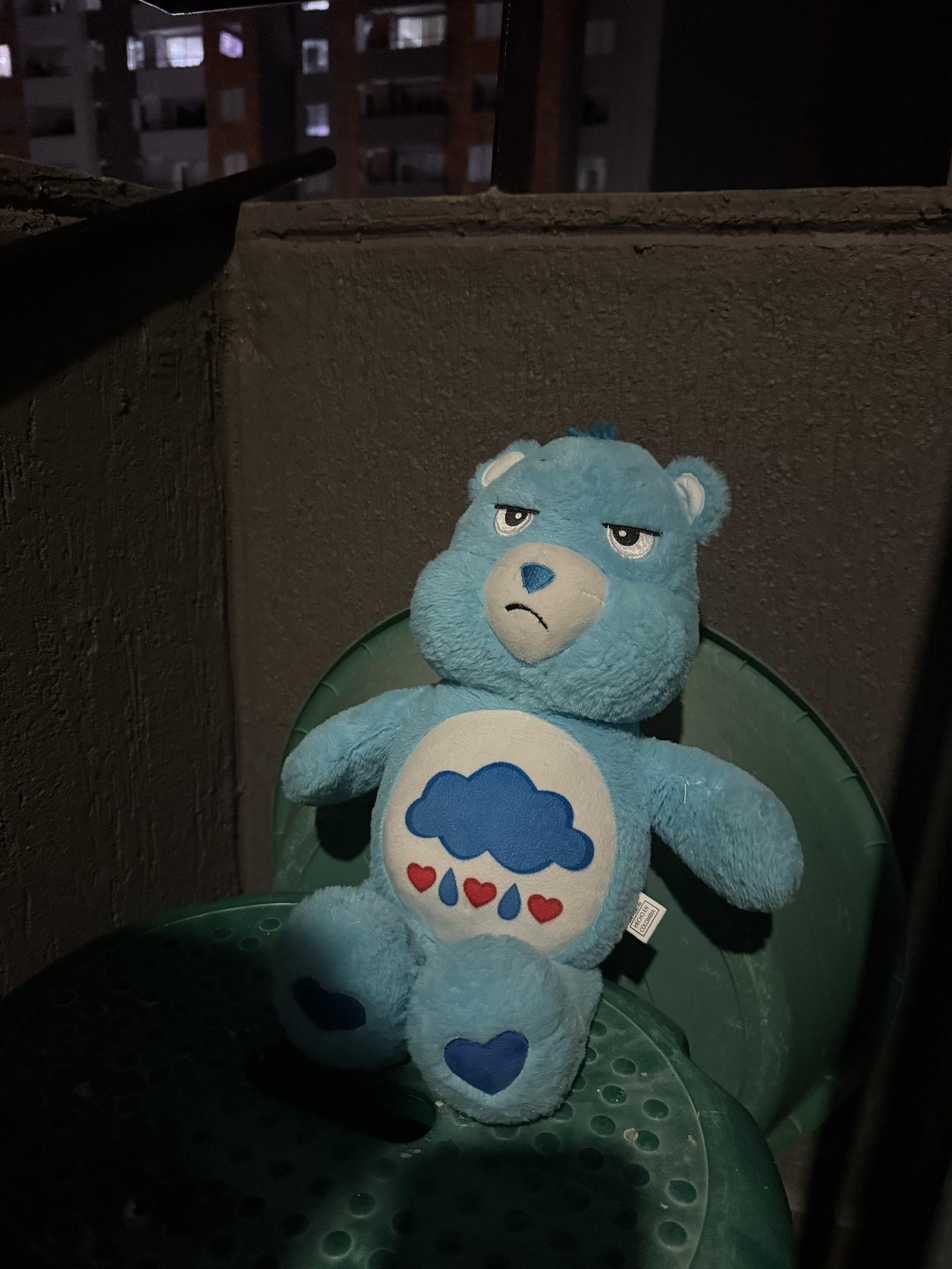peluche_Juan Jose: (262, 424, 811, 1120)
